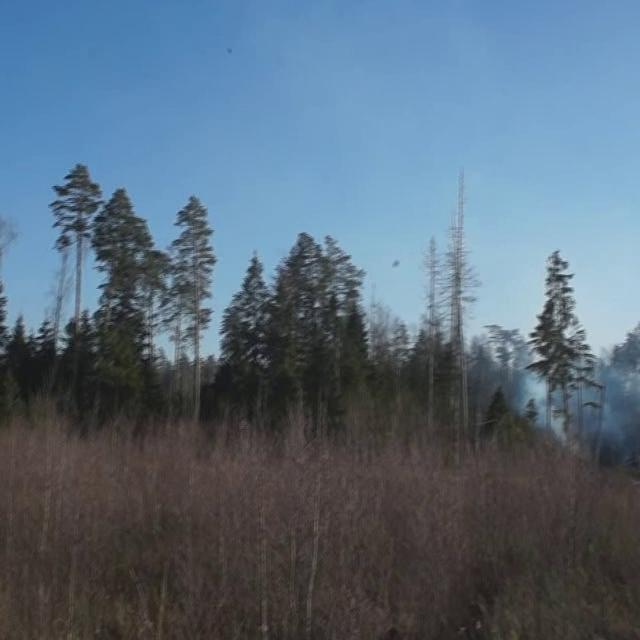Smoke: (501, 323, 639, 478)
